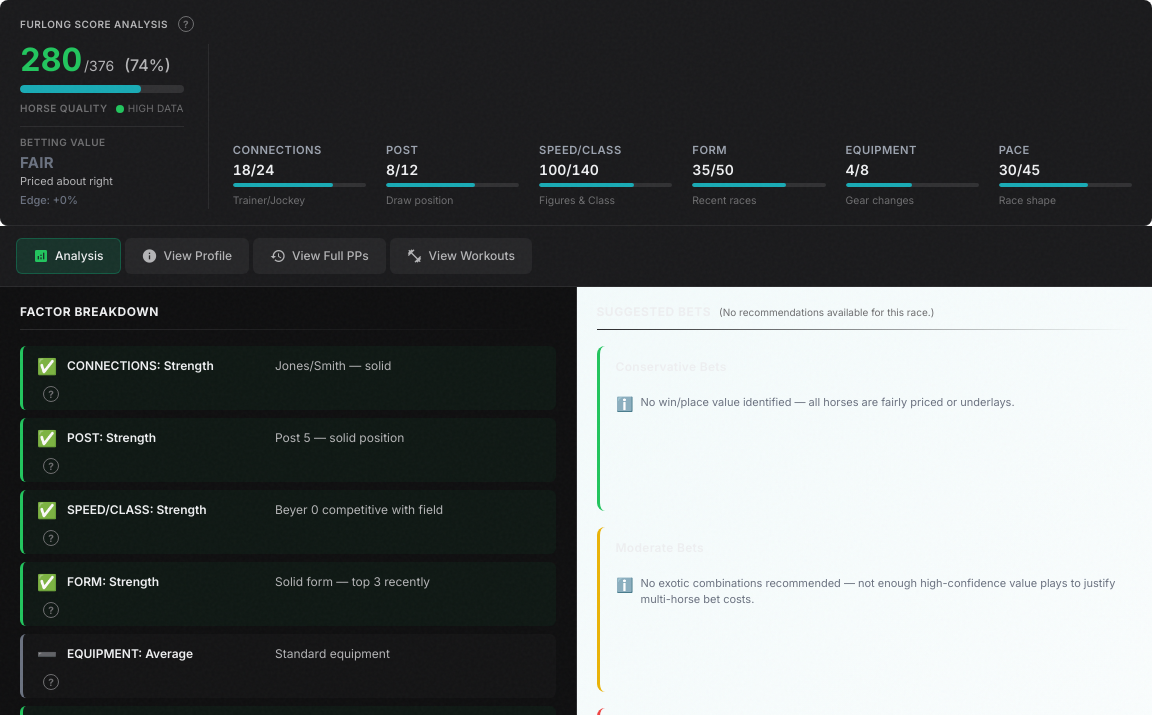
it: HorseExpandedView › Tab Navigation › switches to PPs tab and shows no data message for first-time starter
What coordinates should you click on to do the following:
click the text "View Full PPs"
I would click on:
 (330, 256)
Its box is [292,247,369,265].
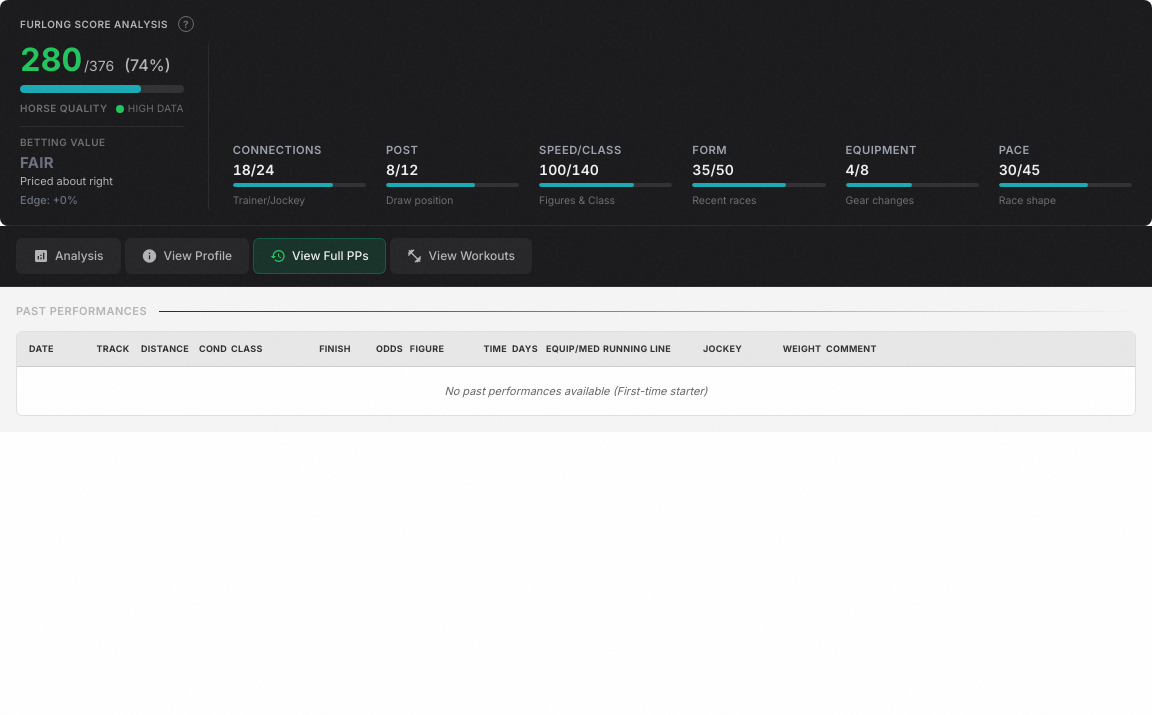
Check: the text "No past performances available (First-time starter)" is shown, box [444,384,708,398]
